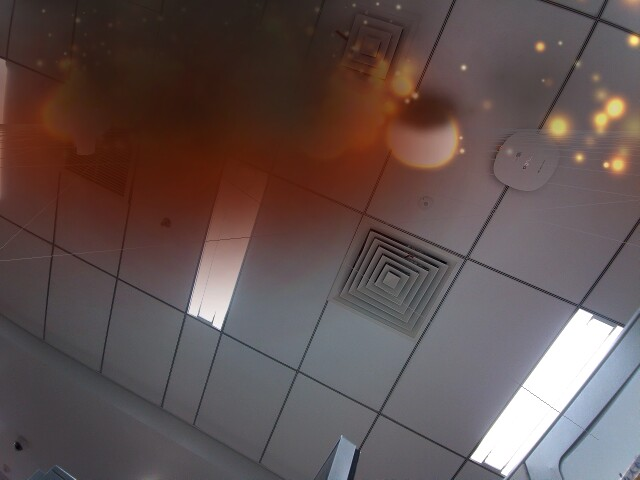fire: (382, 93, 461, 169), (41, 81, 107, 146), (302, 111, 350, 160)
